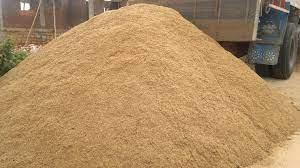sand: (127, 129, 152, 151), (164, 73, 186, 93), (46, 61, 66, 81), (95, 64, 114, 83), (256, 105, 274, 123), (140, 20, 158, 37)
